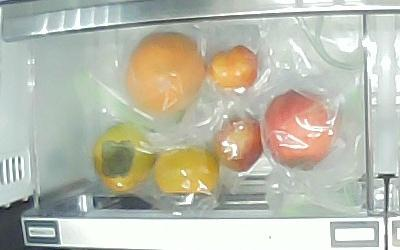apple_vinyl: (263, 90, 338, 171)
grapefruit_vinyl: (126, 33, 206, 117)
persimmon_vinyl: (93, 123, 155, 191), (154, 147, 219, 196)
prune_vinyl: (210, 115, 262, 173), (208, 45, 258, 91)
